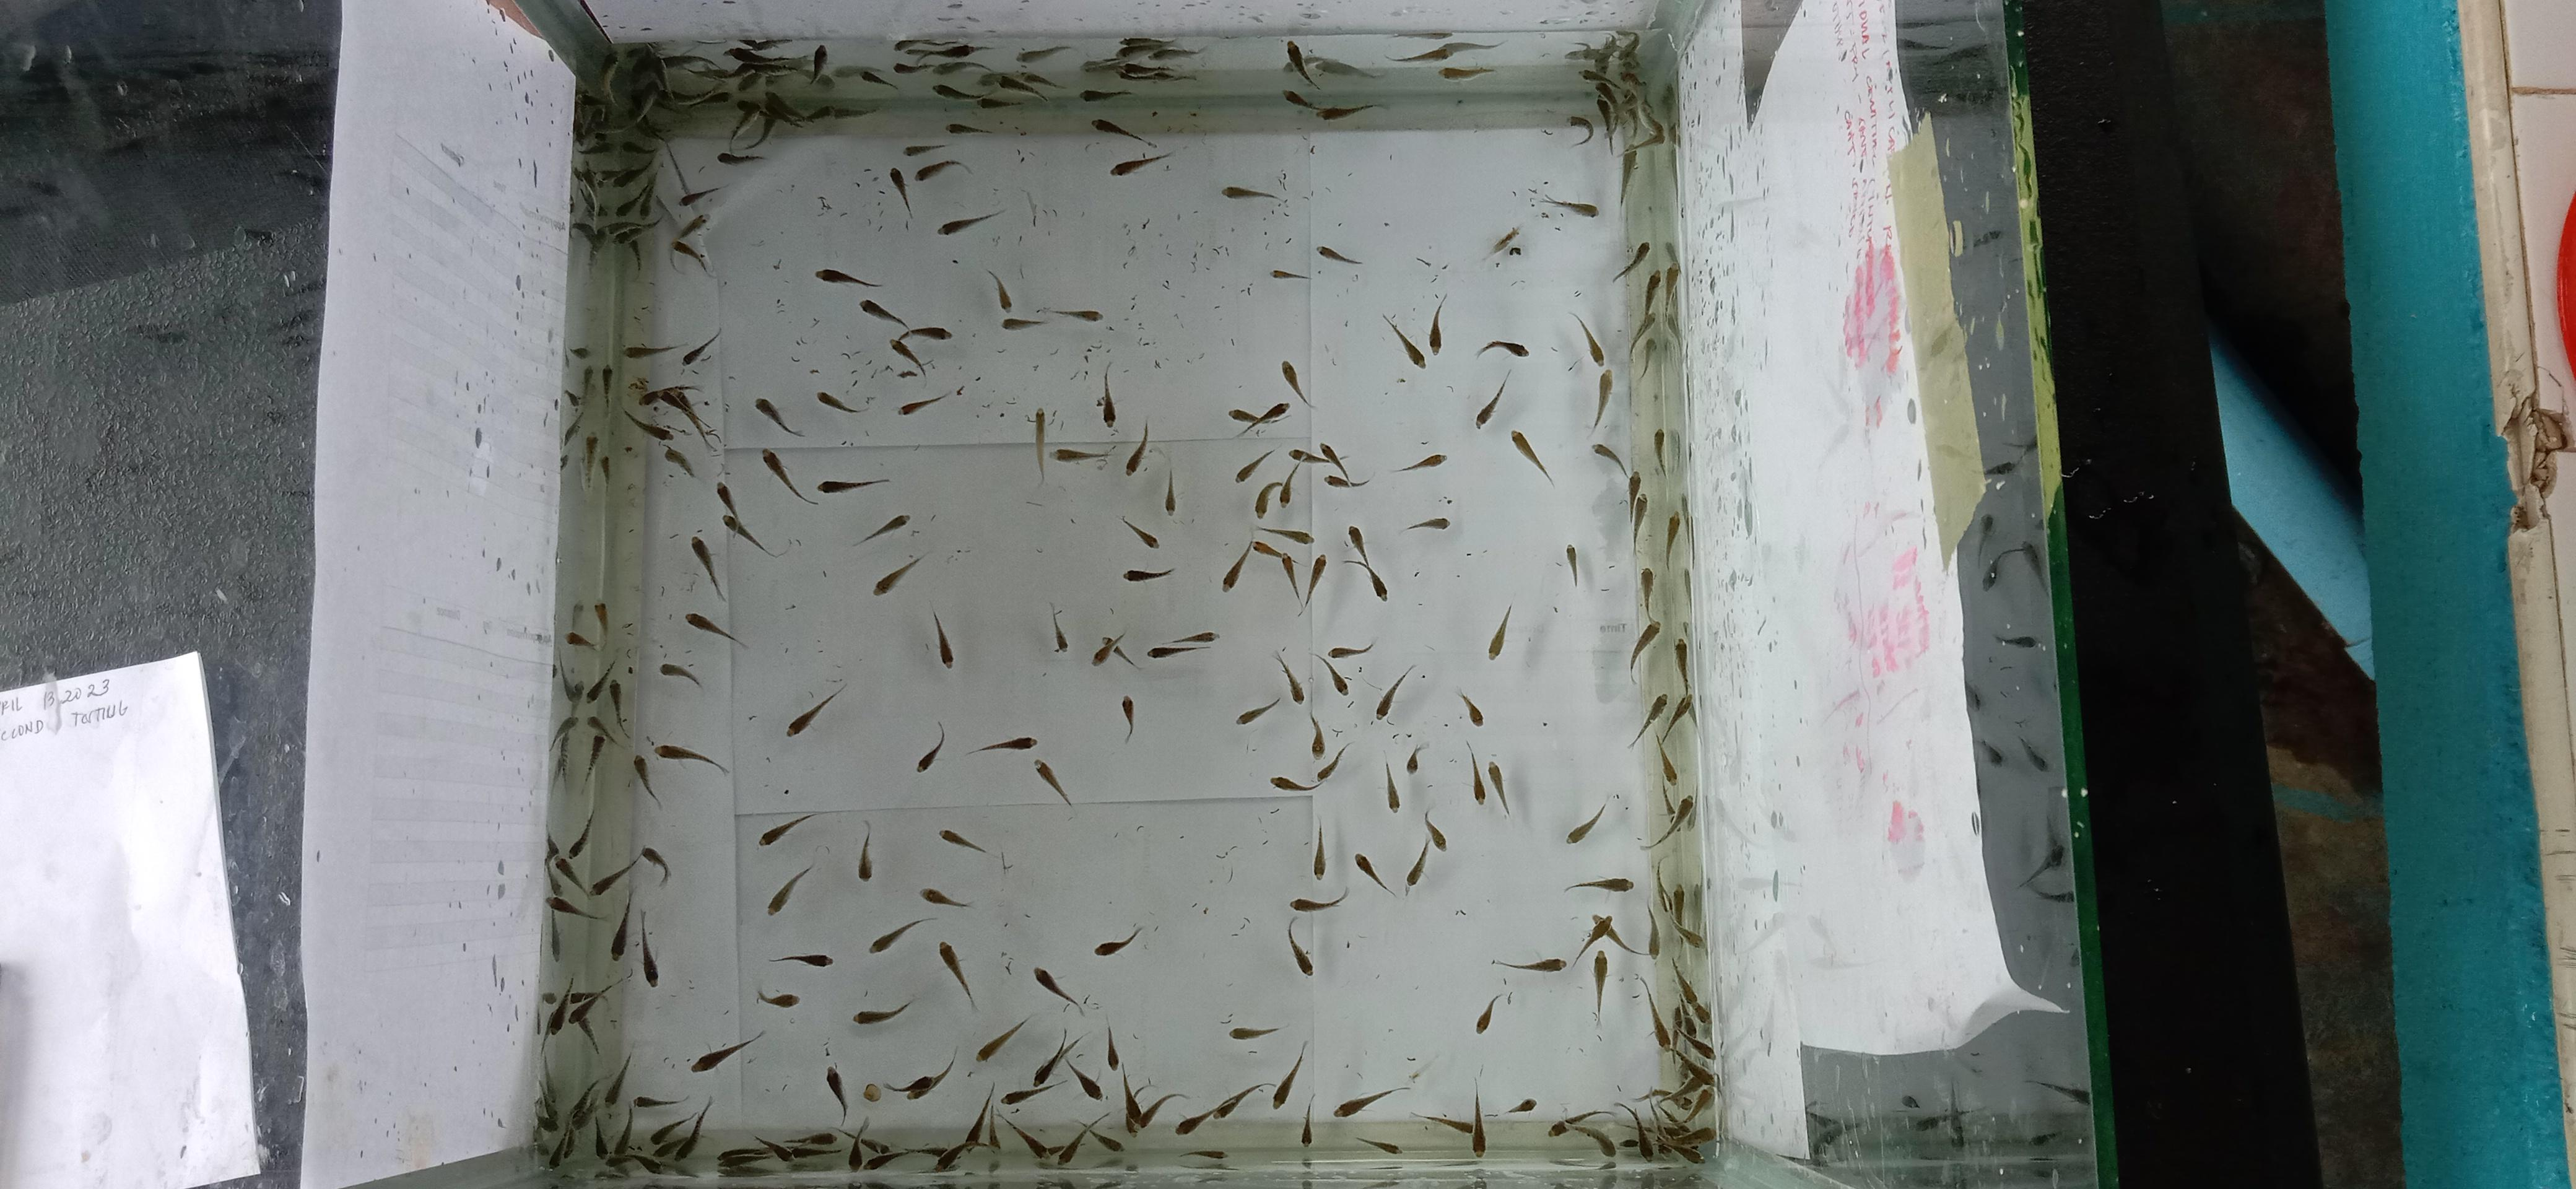fish: (996, 1109, 1122, 1168), (859, 297, 951, 376), (933, 1086, 997, 1171), (1081, 36, 1203, 79), (1569, 312, 1613, 429), (1416, 1086, 1488, 1156), (1033, 1030, 1104, 1100), (547, 1076, 601, 1168), (728, 87, 807, 149), (1592, 442, 1644, 534), (639, 384, 716, 447), (1175, 1084, 1265, 1135), (715, 480, 772, 555), (1119, 1071, 1188, 1133), (1285, 39, 1375, 85), (724, 41, 826, 80), (986, 268, 1045, 330), (1270, 744, 1347, 792), (624, 328, 721, 365), (884, 1053, 956, 1100), (1618, 128, 1663, 205), (831, 1117, 894, 1171), (1403, 808, 1446, 887), (567, 974, 632, 1025), (688, 1030, 766, 1072), (785, 683, 846, 737), (1314, 640, 1375, 695), (1656, 695, 1694, 782), (1250, 539, 1303, 601), (938, 826, 1012, 870), (761, 448, 818, 504), (894, 38, 986, 72), (1548, 1112, 1617, 1158), (1283, 89, 1378, 122), (1640, 793, 1695, 849), (890, 325, 951, 376), (1631, 976, 1671, 1053), (586, 146, 655, 189), (996, 1112, 1053, 1161), (754, 1132, 839, 1164), (1393, 38, 1500, 64), (1630, 269, 1663, 355), (974, 1015, 1032, 1063), (1308, 711, 1347, 780), (936, 939, 974, 1010), (1280, 448, 1327, 504), (858, 1138, 938, 1171), (1270, 1040, 1308, 1109), (593, 1102, 634, 1163), (1033, 1030, 1079, 1084), (652, 741, 728, 774), (1332, 1084, 1408, 1117), (1382, 312, 1426, 368), (766, 864, 813, 915), (683, 611, 747, 649), (869, 916, 933, 954), (1253, 463, 1299, 516), (1510, 429, 1552, 484), (1033, 966, 1083, 1013), (1319, 442, 1370, 488), (1615, 1102, 1654, 1161), (690, 534, 724, 601), (1373, 665, 1414, 721), (715, 1146, 792, 1176), (1628, 691, 1667, 749), (670, 213, 710, 269), (872, 553, 923, 596), (1589, 77, 1626, 135), (1571, 913, 1612, 966), (721, 512, 770, 555), (539, 976, 572, 1040), (1474, 370, 1508, 429), (1227, 402, 1288, 435), (726, 49, 802, 76), (1344, 557, 1388, 601), (1602, 913, 1648, 956), (936, 209, 1005, 236), (1148, 631, 1217, 659), (680, 1099, 711, 1159), (729, 105, 774, 148), (545, 849, 588, 893), (757, 813, 815, 846), (754, 397, 802, 437), (1033, 759, 1073, 806), (588, 857, 636, 897), (1115, 36, 1203, 57), (969, 1086, 997, 1151), (1092, 629, 1137, 670), (762, 87, 807, 128), (1571, 312, 1605, 365), (550, 714, 577, 783), (854, 512, 908, 545), (1628, 619, 1661, 673), (1539, 115, 1594, 148), (623, 407, 674, 442), (1285, 39, 1321, 87), (1120, 1072, 1148, 1133), (1083, 1112, 1124, 1153), (1566, 801, 1605, 844), (1354, 852, 1393, 895), (1221, 539, 1252, 591), (1661, 693, 1694, 742), (1612, 240, 1649, 282), (885, 1072, 943, 1100), (685, 407, 721, 452), (1286, 916, 1313, 977), (892, 51, 966, 72), (563, 810, 596, 857), (1631, 100, 1664, 148), (1275, 650, 1304, 703), (1030, 407, 1050, 486), (1092, 118, 1152, 145), (554, 645, 580, 705), (992, 71, 1051, 97), (1234, 447, 1275, 484), (889, 335, 927, 376), (999, 1081, 1061, 1105), (1663, 264, 1682, 342), (894, 36, 971, 56), (631, 754, 659, 808), (915, 721, 945, 772), (603, 1151, 664, 1176), (1314, 54, 1375, 79), (1065, 1061, 1102, 1100), (639, 911, 659, 987), (1314, 652, 1349, 695), (1124, 420, 1150, 476), (603, 1053, 631, 1105), (853, 1000, 912, 1025), (583, 659, 616, 703), (545, 895, 605, 920), (606, 218, 660, 245), (1051, 1127, 1086, 1168), (1111, 153, 1171, 176), (1487, 603, 1511, 659), (915, 159, 971, 184), (1290, 887, 1345, 911), (639, 386, 695, 411), (1464, 741, 1485, 805), (682, 328, 720, 365), (1485, 225, 1521, 263), (931, 609, 954, 668), (1094, 926, 1140, 956), (859, 297, 905, 327), (859, 1138, 900, 1171), (1590, 949, 1608, 1023), (1592, 368, 1613, 430), (609, 895, 631, 957), (1280, 360, 1308, 407), (825, 1063, 848, 1120), (816, 476, 889, 494), (1469, 1084, 1487, 1156), (1096, 366, 1117, 427), (815, 268, 881, 287), (1487, 760, 1510, 816), (1416, 1113, 1472, 1136), (754, 1133, 795, 1164), (887, 166, 912, 217), (1653, 429, 1679, 476), (968, 736, 1037, 754), (1564, 877, 1633, 895), (1544, 194, 1598, 217), (1304, 553, 1327, 608), (1120, 516, 1158, 549), (572, 222, 605, 259), (1235, 698, 1280, 726), (946, 122, 1030, 136), (1395, 43, 1457, 62), (1316, 742, 1347, 782), (1618, 148, 1640, 205), (1492, 956, 1564, 972), (815, 389, 862, 414), (986, 268, 1012, 312), (639, 846, 669, 885), (560, 361, 586, 406), (1548, 1112, 1592, 1138), (1403, 841, 1428, 887), (662, 447, 697, 480), (1278, 460, 1303, 506), (1280, 553, 1303, 603), (1405, 1053, 1441, 1084), (659, 662, 701, 688), (1260, 524, 1313, 545), (670, 240, 708, 269), (1117, 62, 1178, 80), (976, 92, 1037, 110), (899, 393, 946, 415), (940, 828, 984, 852), (920, 887, 971, 908), (1474, 992, 1500, 1033), (1628, 473, 1644, 539), (1592, 442, 1626, 473), (1318, 103, 1377, 122), (1015, 44, 1069, 64), (606, 677, 628, 726), (1221, 184, 1278, 202), (591, 1110, 611, 1163), (856, 819, 872, 882), (583, 714, 616, 746), (1319, 442, 1349, 476), (1017, 71, 1065, 92), (674, 212, 710, 240), (1628, 125, 1664, 153), (1643, 269, 1663, 320), (1311, 819, 1327, 880), (1457, 688, 1483, 726), (1253, 480, 1280, 517), (1656, 737, 1677, 783), (1672, 637, 1690, 691), (1428, 294, 1444, 353), (678, 186, 723, 207), (931, 57, 989, 74), (1250, 537, 1288, 562), (1477, 340, 1528, 358), (1383, 760, 1401, 811), (1053, 447, 1109, 463), (598, 366, 614, 422), (1424, 808, 1446, 851), (756, 987, 798, 1008), (583, 732, 605, 775), (859, 67, 899, 90), (770, 953, 831, 967), (1396, 453, 1446, 471), (1048, 307, 1102, 324), (624, 343, 678, 360), (1316, 245, 1360, 264), (1354, 659, 1382, 690), (1566, 113, 1592, 146), (1050, 604, 1068, 652), (1638, 567, 1656, 614), (1173, 1110, 1207, 1135), (1229, 1025, 1280, 1041), (582, 432, 598, 483), (1355, 1136, 1401, 1155), (931, 82, 977, 100), (562, 407, 585, 443), (716, 149, 766, 166), (1309, 711, 1326, 760), (808, 43, 828, 84), (591, 603, 609, 647), (715, 480, 738, 514), (1119, 695, 1135, 742), (1327, 640, 1375, 657), (1270, 775, 1318, 792), (1104, 1023, 1120, 1071), (904, 325, 951, 342), (1666, 511, 1682, 558), (1299, 1094, 1314, 1146), (550, 714, 577, 744), (1345, 524, 1367, 560), (1283, 90, 1319, 112), (1324, 473, 1370, 489), (1124, 567, 1175, 581), (1439, 66, 1490, 80), (632, 1094, 683, 1109), (1079, 89, 1130, 103), (1646, 907, 1661, 957), (1161, 468, 1176, 516), (1403, 517, 1449, 532), (1403, 744, 1426, 774), (894, 57, 935, 74), (902, 141, 946, 156), (946, 122, 991, 136), (1288, 448, 1327, 465), (1112, 645, 1140, 668), (1564, 544, 1579, 586), (1000, 315, 1043, 330), (1180, 1148, 1227, 1161), (565, 631, 596, 650), (1176, 629, 1216, 644), (1626, 471, 1643, 506), (1227, 406, 1257, 424), (1270, 268, 1309, 281), (1505, 1097, 1536, 1113), (1663, 263, 1681, 291), (1548, 1117, 1571, 1138), (1595, 617, 1628, 632), (598, 452, 613, 483), (861, 1081, 881, 1104), (568, 599, 586, 624), (562, 388, 583, 407), (631, 376, 649, 397), (567, 345, 590, 360)
